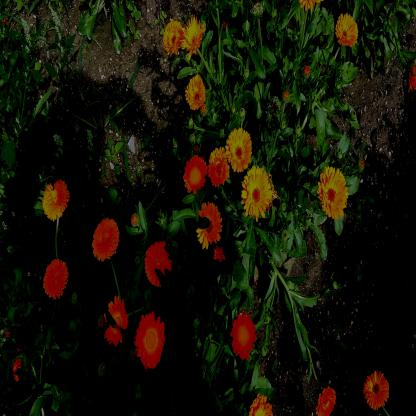marigold: (318, 165, 347, 216), (136, 316, 166, 365), (242, 168, 271, 217), (145, 241, 172, 290), (226, 127, 253, 168), (92, 218, 118, 258), (198, 202, 221, 246), (232, 313, 256, 355), (364, 370, 389, 408), (43, 180, 68, 217), (104, 302, 128, 339), (43, 260, 67, 296), (335, 14, 359, 45), (184, 18, 204, 53), (185, 156, 206, 188), (209, 148, 228, 181), (164, 20, 182, 52), (318, 386, 335, 414), (187, 76, 202, 106)
